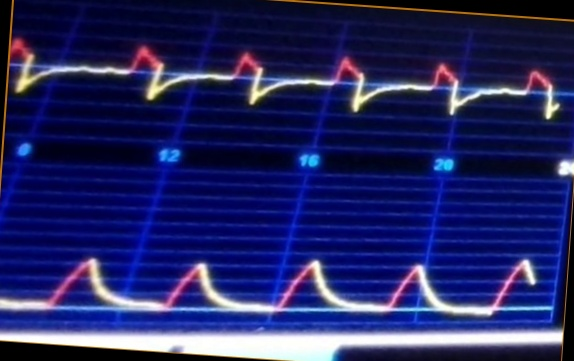Accumulation Flow: (11, 33, 561, 142)
Volume: (3, 238, 540, 325)
